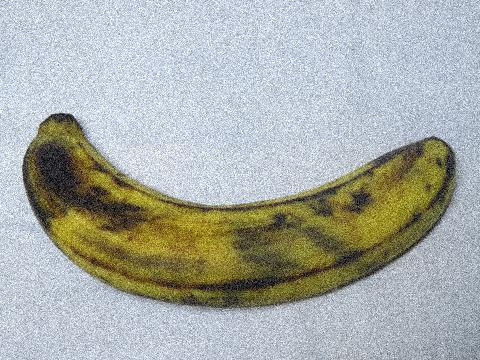overripe: (16, 95, 465, 322)
